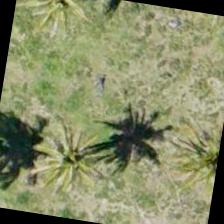Kelapa_Sawit: (28, 118, 131, 221), (163, 107, 223, 205), (20, 0, 119, 58)
